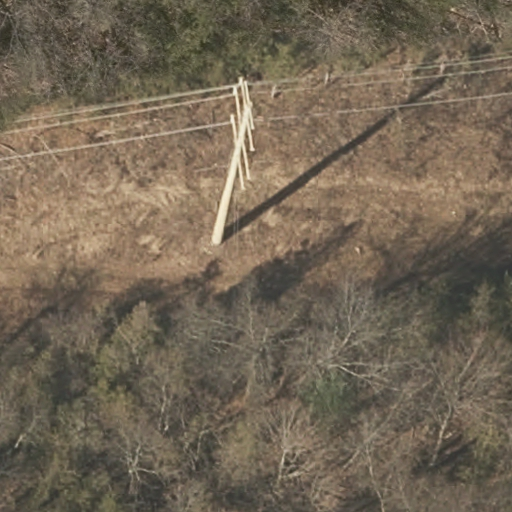TT: (209, 72, 254, 254)
